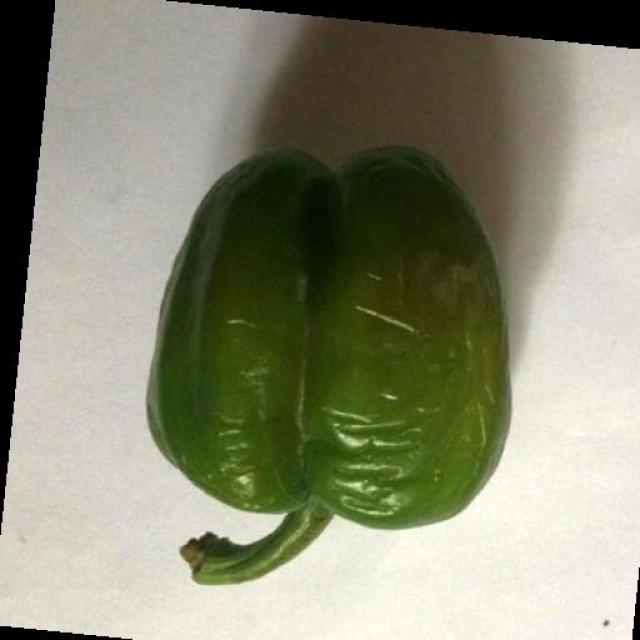Stale_Capsicum: (141, 128, 517, 563)
